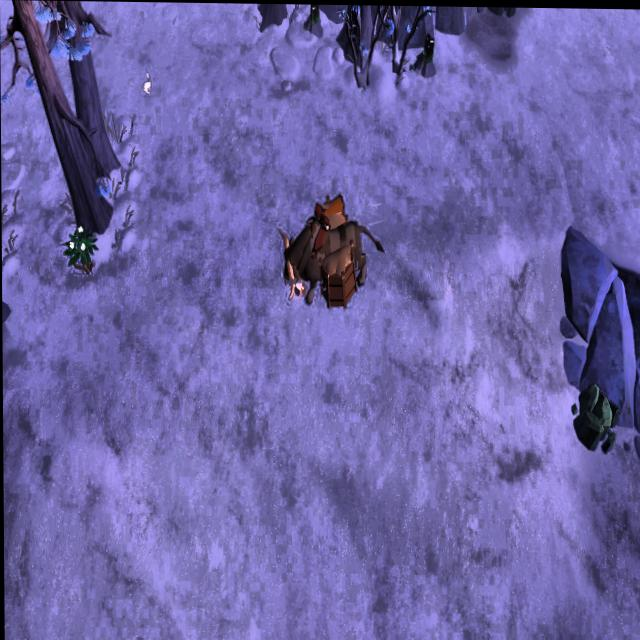fiber_t3: (66, 222, 96, 276)
ore_t3: (421, 33, 436, 64), (308, 4, 319, 30)
rock_t3: (566, 377, 624, 460)
